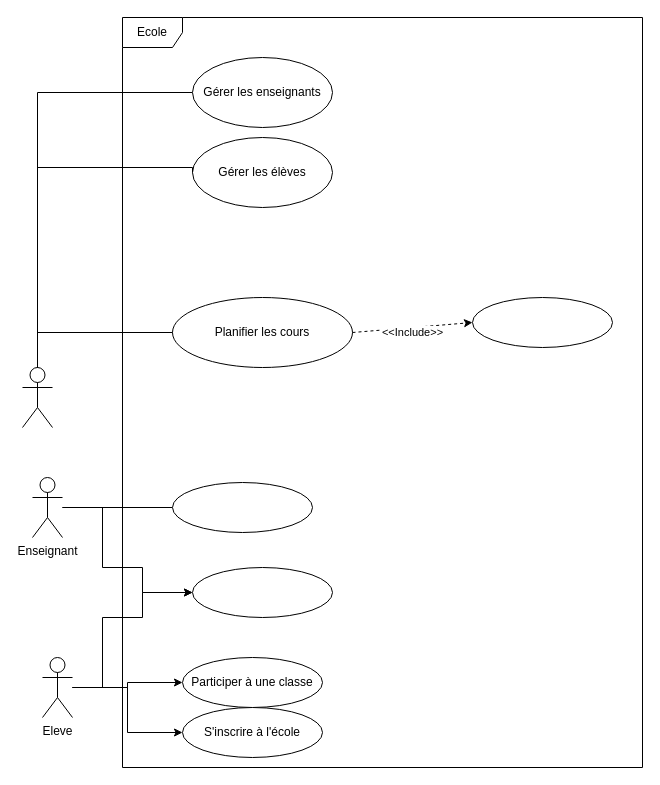
The diagram is 660 pixels wide and 785 high, and some of its shapes have lost their labels. The shapes that lost their labels are listed below. From the top down, each one's centre as x and y in pixels, then its label:
At point 542,322: "Attribuer un enseignant".
At point 37,397: "Admin".
At point 242,507: "Gérer un cours".
At point 262,592: "Consulter la liste des cours".
